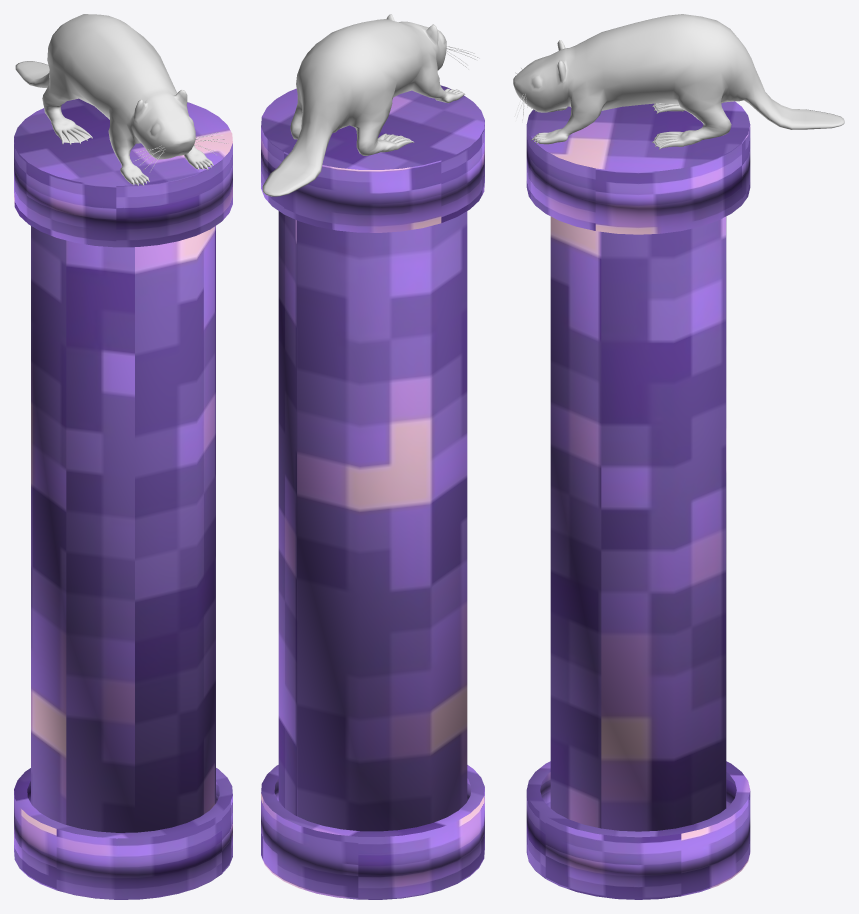
Rendered from fence_divider_carter (1).fbx.
3 renders of one model, left to right at view 1: azimuth 30°, elevation 25°; view 2: azimuth 150°, elevation 25°; view 3: azimuth 270°, elevation 25°, orthographic. The views are drawn at different scales.
Parts seen in each view (by area): view 1: Pole, Top Piece, Beaver, Bot Piece; view 2: Pole, Top Piece, Beaver, Bot Piece; view 3: Pole, Top Piece, Beaver, Bot Piece.
Part boxes in pixels (bbox=[...]): Pole: bbox=[31, 226, 215, 832]; Top Piece: bbox=[14, 98, 232, 247]; Beaver: bbox=[15, 14, 228, 185]; Bot Piece: bbox=[14, 768, 232, 899]; Pole: bbox=[278, 211, 467, 831]; Top Piece: bbox=[261, 85, 484, 232]; Beaver: bbox=[262, 14, 479, 196]; Bot Piece: bbox=[261, 765, 484, 899]; Pole: bbox=[550, 216, 726, 831]; Top Piece: bbox=[526, 101, 750, 234]; Beaver: bbox=[513, 14, 844, 149]; Bot Piece: bbox=[526, 761, 750, 899].
Bounding box in the file's own units: 95.82 × 394 × 142.
Materials: 2 (1 with a texture image).
